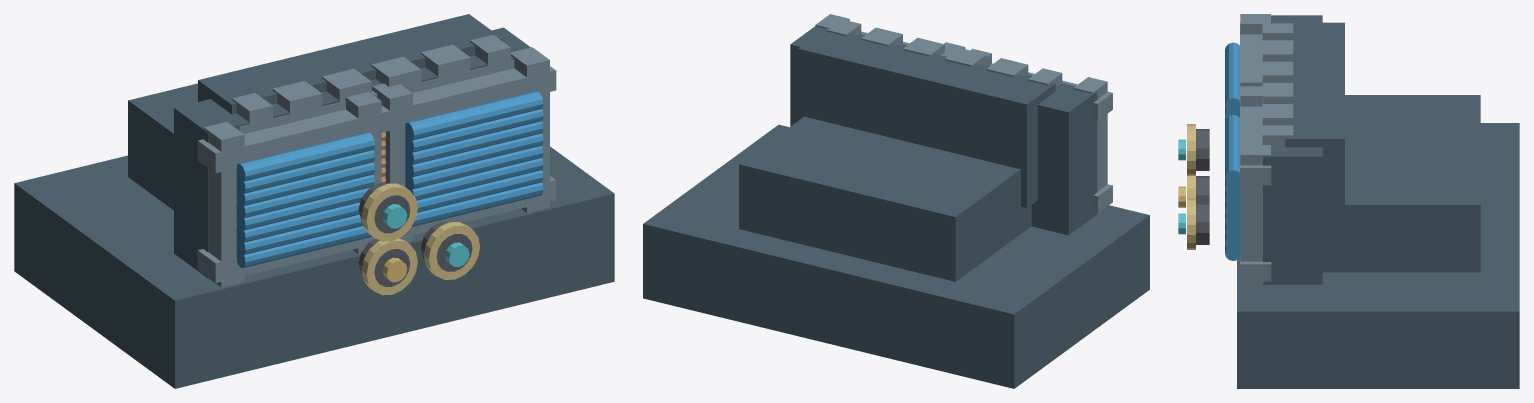
The model's file is 19_L82_DifferentialLCFilterModule.glb.
The picture shows the model from 3 angles, left to right: view 1: azimuth 30°, elevation 25°; view 2: azimuth 150°, elevation 25°; view 3: azimuth 270°, elevation 25°; orthographic projection. The views are drawn at different scales.
Visible parts, largest first — view 1: DifferentialLCFilterModule_Node_0000, DifferentialLCFilterModule_Node_0001, DifferentialLCFilterModule_Node_0113, DifferentialLCFilterModule_Node_0056, DifferentialLCFilterModule_Node_0112, DifferentialLCFilterModule_Node_0053, DifferentialLCFilterModule_Node_0052, DifferentialLCFilterModule_Node_0108, DifferentialLCFilterModule_Node_0114, DifferentialLCFilterModule_Node_0055, DifferentialLCFilterModule_Node_0109, DifferentialLCFilterModule_Node_0226 (+38 smaller); view 2: DifferentialLCFilterModule_Node_0000, DifferentialLCFilterModule_Node_0113, DifferentialLCFilterModule_Node_0001, DifferentialLCFilterModule_Node_0114, DifferentialLCFilterModule_Node_0338, DifferentialLCFilterModule_Node_0226, DifferentialLCFilterModule_Node_0170, DifferentialLCFilterModule_Node_0282, DifferentialLCFilterModule_Node_0053, DifferentialLCFilterModule_Node_0057, DifferentialLCFilterModule_Node_0056, DifferentialLCFilterModule_Node_0166; view 3: DifferentialLCFilterModule_Node_0000, DifferentialLCFilterModule_Node_0113, DifferentialLCFilterModule_Node_0057, DifferentialLCFilterModule_Node_0338, DifferentialLCFilterModule_Node_0110, DifferentialLCFilterModule_Node_0226, DifferentialLCFilterModule_Node_0282, DifferentialLCFilterModule_Node_0114, DifferentialLCFilterModule_Node_0112, DifferentialLCFilterModule_Node_0170, DifferentialLCFilterModule_Node_0052, DifferentialLCFilterModule_Node_0108 (+19 smaller).
Boxes of the visible parts, box(x1,y1,x2,y2) form: DifferentialLCFilterModule_Node_0000: box(14, 146, 614, 388); DifferentialLCFilterModule_Node_0001: box(174, 91, 339, 277); DifferentialLCFilterModule_Node_0113: box(128, 83, 197, 210); DifferentialLCFilterModule_Node_0056: box(197, 107, 387, 173); DifferentialLCFilterModule_Node_0112: box(381, 66, 556, 132); DifferentialLCFilterModule_Node_0053: box(204, 121, 244, 287); DifferentialLCFilterModule_Node_0052: box(236, 132, 374, 182); DifferentialLCFilterModule_Node_0108: box(405, 91, 543, 140); DifferentialLCFilterModule_Node_0114: box(198, 62, 297, 114); DifferentialLCFilterModule_Node_0055: box(197, 236, 375, 282); DifferentialLCFilterModule_Node_0109: box(372, 83, 412, 242); DifferentialLCFilterModule_Node_0226: box(302, 38, 396, 80); DifferentialLCFilterModule_Node_0000: box(643, 124, 1149, 388); DifferentialLCFilterModule_Node_0113: box(739, 116, 1031, 281); DifferentialLCFilterModule_Node_0001: box(984, 64, 1097, 235); DifferentialLCFilterModule_Node_0114: box(965, 71, 1055, 207); DifferentialLCFilterModule_Node_0338: box(798, 28, 884, 129); DifferentialLCFilterModule_Node_0226: box(881, 54, 967, 145); DifferentialLCFilterModule_Node_0170: box(923, 64, 989, 158); DifferentialLCFilterModule_Node_0282: box(840, 41, 925, 135); DifferentialLCFilterModule_Node_0053: box(1073, 77, 1107, 213); DifferentialLCFilterModule_Node_0057: box(790, 26, 906, 126); DifferentialLCFilterModule_Node_0056: box(990, 63, 1112, 120); DifferentialLCFilterModule_Node_0166: box(1028, 68, 1062, 87); DifferentialLCFilterModule_Node_0000: box(1237, 123, 1519, 388); DifferentialLCFilterModule_Node_0113: box(1322, 95, 1480, 272); DifferentialLCFilterModule_Node_0057: box(1263, 145, 1322, 284); DifferentialLCFilterModule_Node_0338: box(1285, 107, 1344, 246); DifferentialLCFilterModule_Node_0110: box(1240, 145, 1270, 284); DifferentialLCFilterModule_Node_0226: box(1285, 65, 1344, 96); DifferentialLCFilterModule_Node_0282: box(1285, 86, 1344, 117); DifferentialLCFilterModule_Node_0114: box(1285, 22, 1344, 53); DifferentialLCFilterModule_Node_0112: box(1240, 96, 1271, 185); DifferentialLCFilterModule_Node_0170: box(1285, 44, 1344, 64); DifferentialLCFilterModule_Node_0052: box(1225, 42, 1239, 112); DifferentialLCFilterModule_Node_0108: box(1225, 114, 1239, 184).
Bounding box in the file's own units: 1.2 × 0.64 × 0.918.
